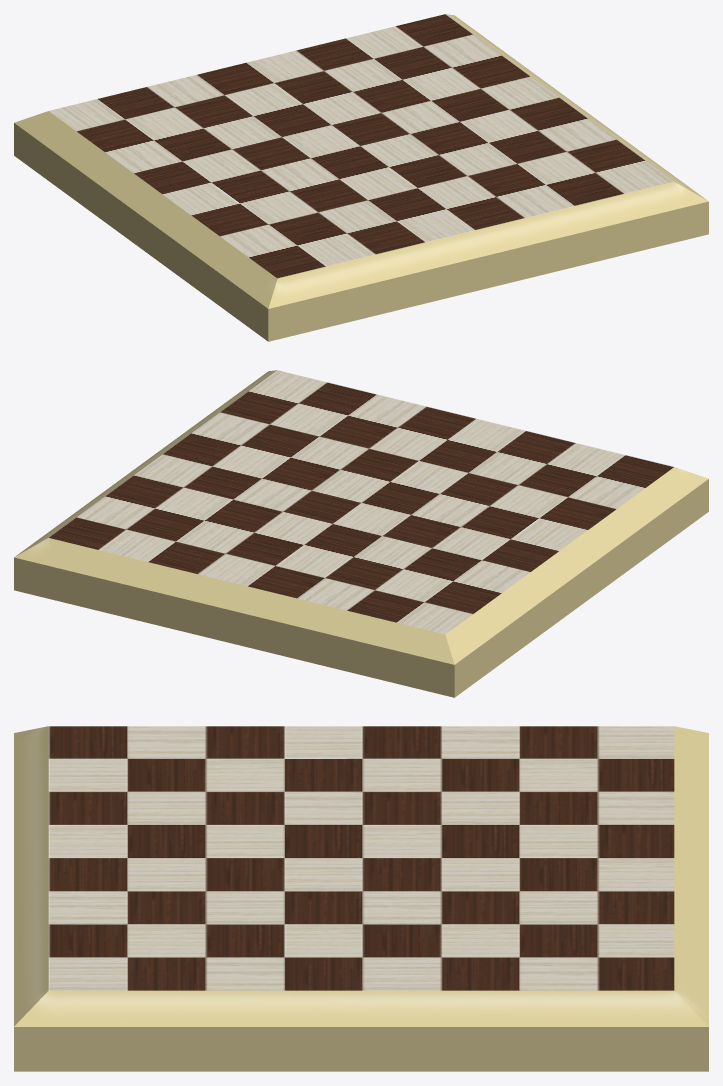
The model's file is Chessboardnew.fbx.
3 renders of one model, top to bottom at view 1: azimuth 30°, elevation 25°; view 2: azimuth 150°, elevation 25°; view 3: azimuth 270°, elevation 25°, orthographic. The views are drawn at different scales.
Visible parts, largest first — view 1: Chessboard; view 2: Chessboard; view 3: Chessboard.
Boxes of the visible parts, x1,y1,x2,y2 form: Chessboard: [14, 14, 708, 341]; Chessboard: [14, 370, 708, 697]; Chessboard: [14, 726, 708, 1071].
Bounding box in the file's own units: 555 × 58.57 × 555.
1 material, 1 textured.
